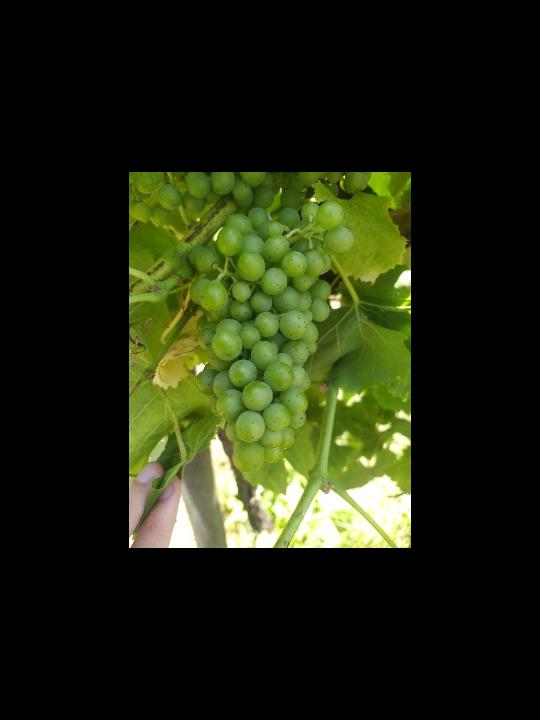grape: (187, 200, 356, 474)
